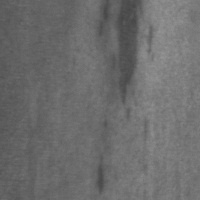inclusion: (92, 1, 158, 121), (92, 152, 113, 199)
